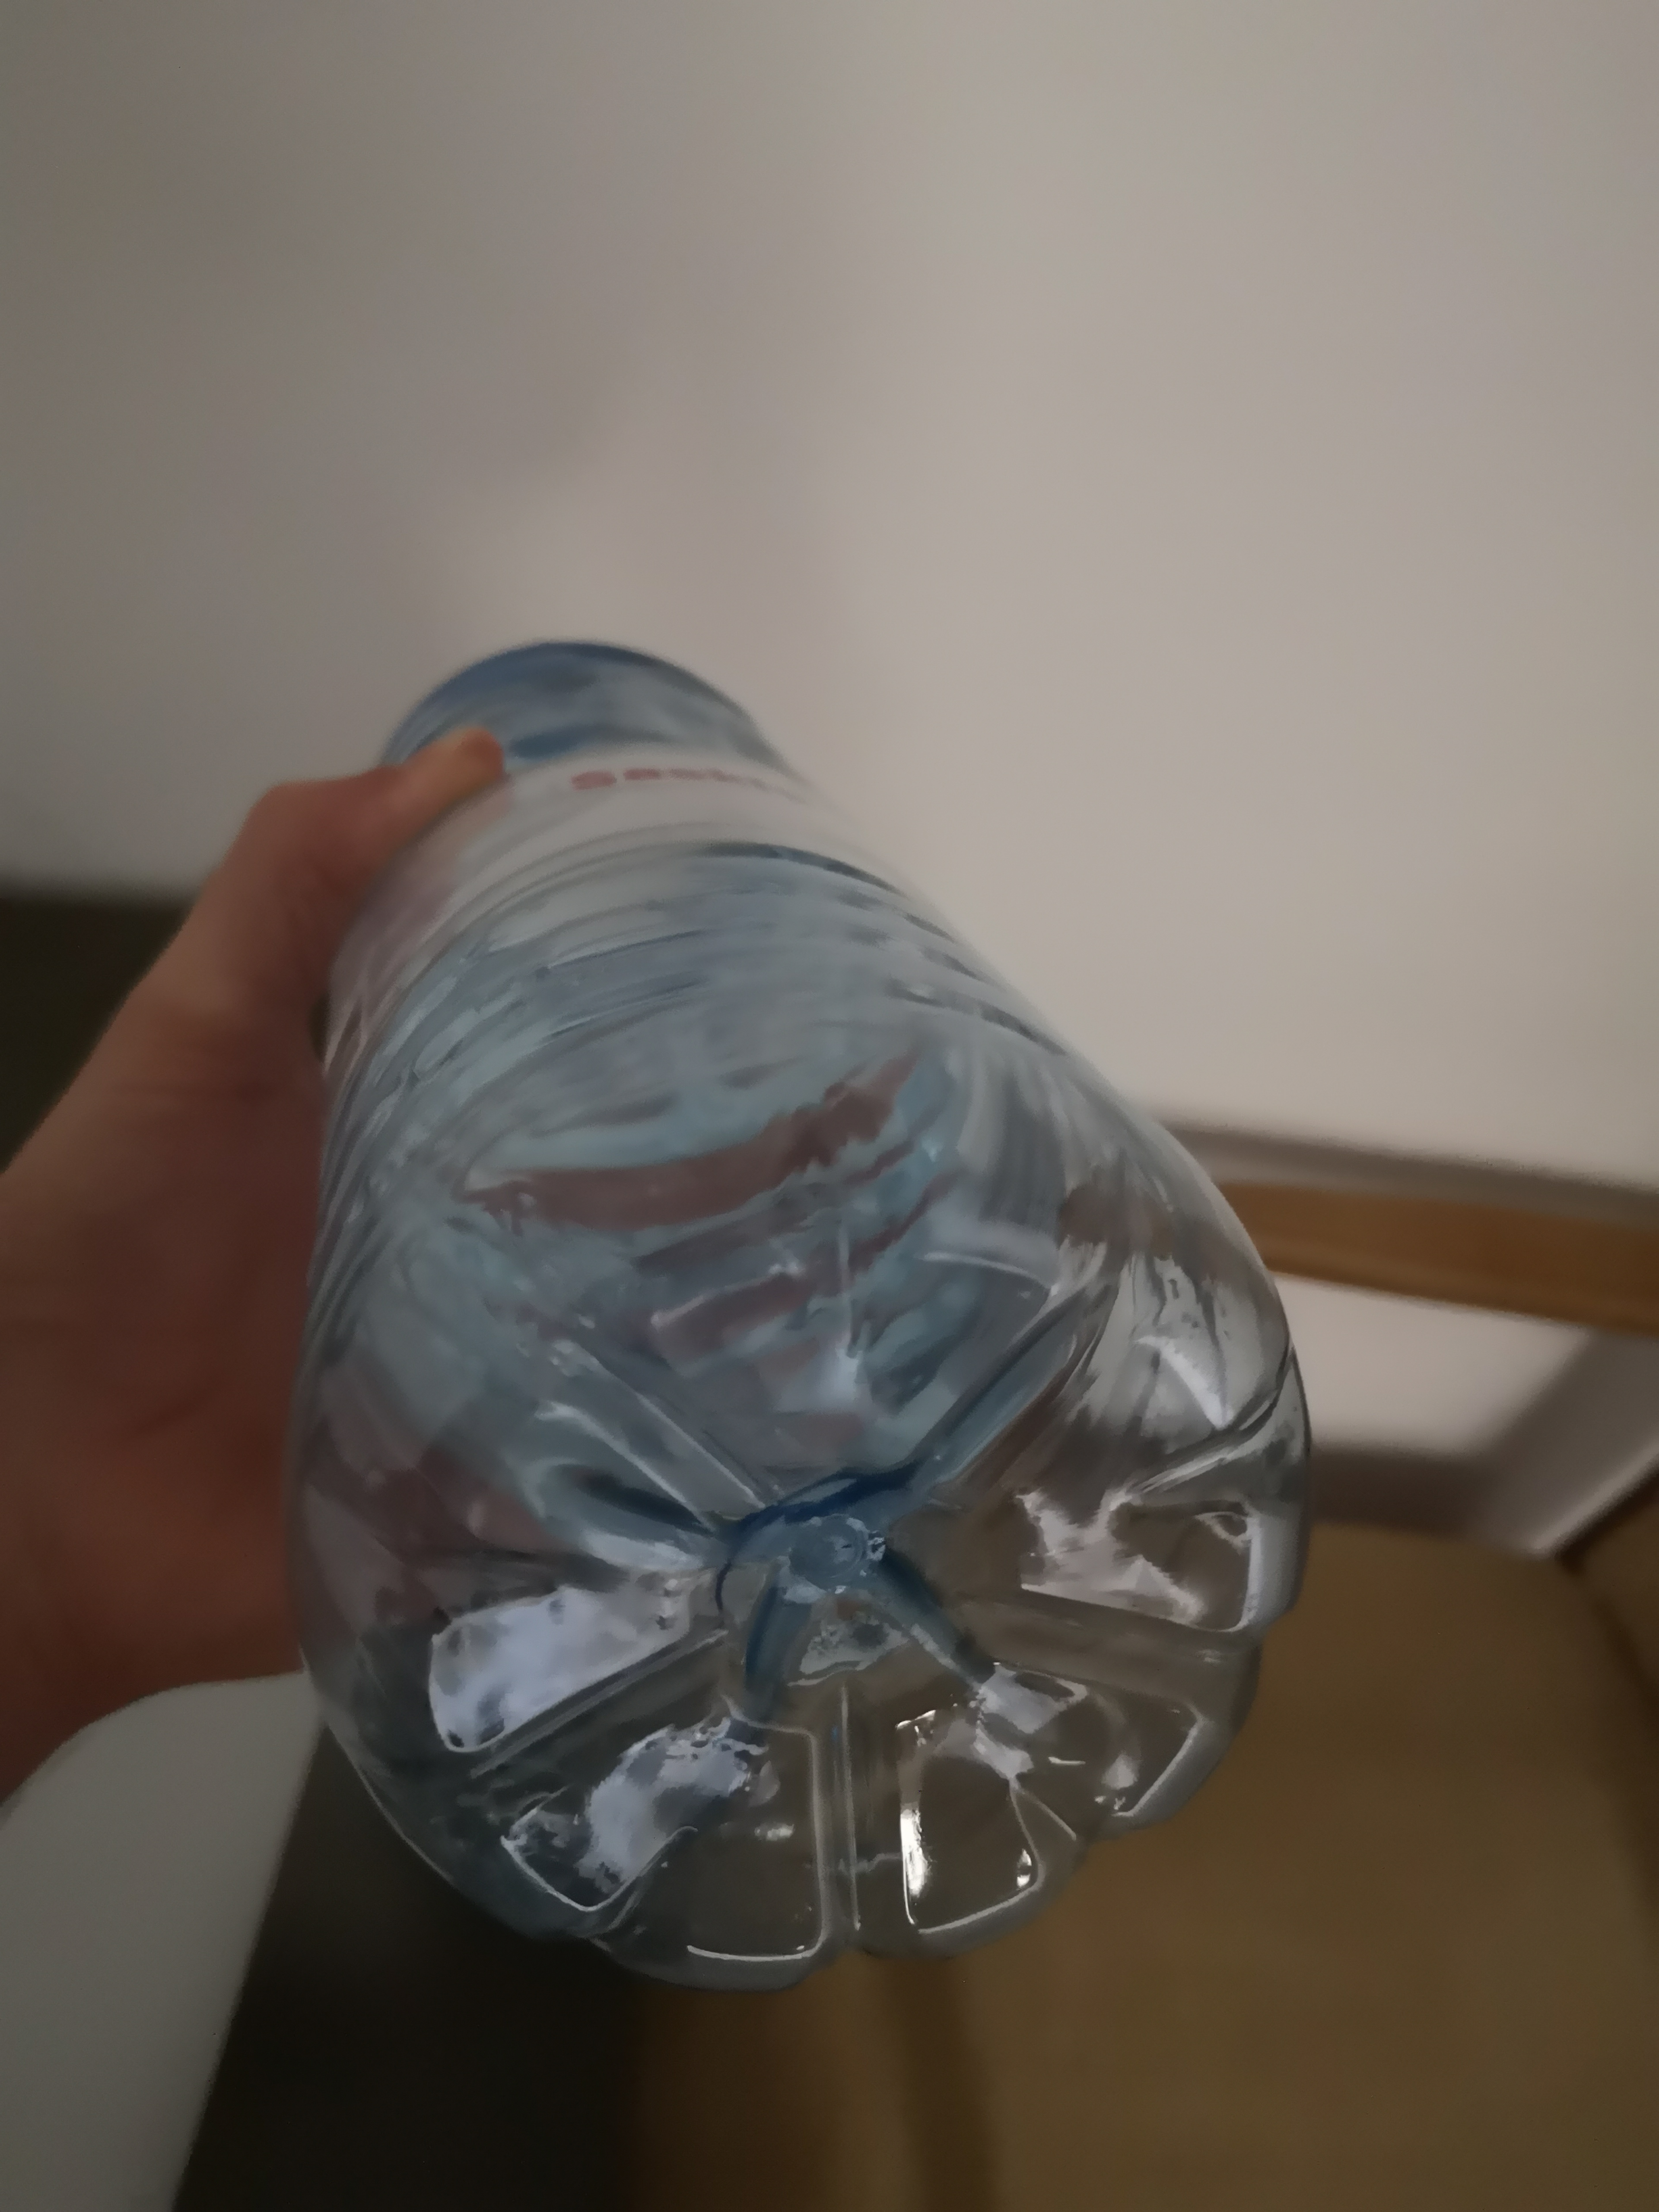plastic_bottle: (310, 413, 1351, 2022)
